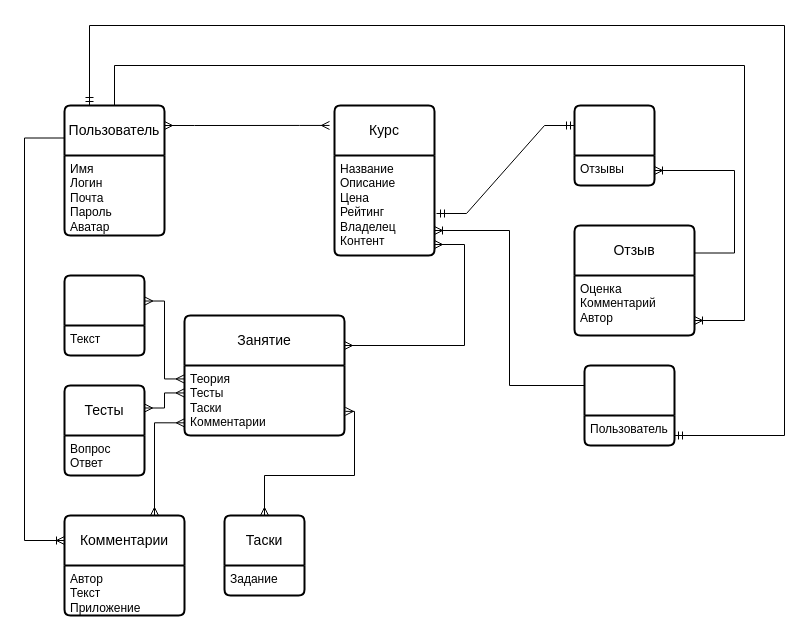
The diagram is 811 pixels wide and 634 high, and some of its shapes have lost their labels. The shapes that lost their labels are listed below. From the top down, each one's box as (x1, y1, x2, y2) in pixels, then its label:
(573, 104, 655, 186): Рейтинг
(63, 274, 145, 356): Теория
(583, 364, 675, 446): Владелец
